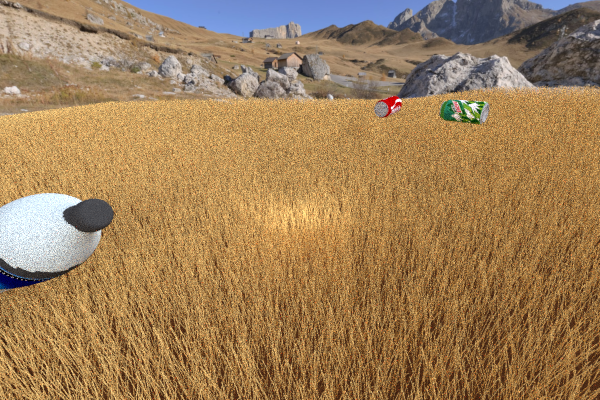Plastic Bottle: (0, 193, 113, 297), (439, 99, 489, 124), (374, 95, 401, 117)
